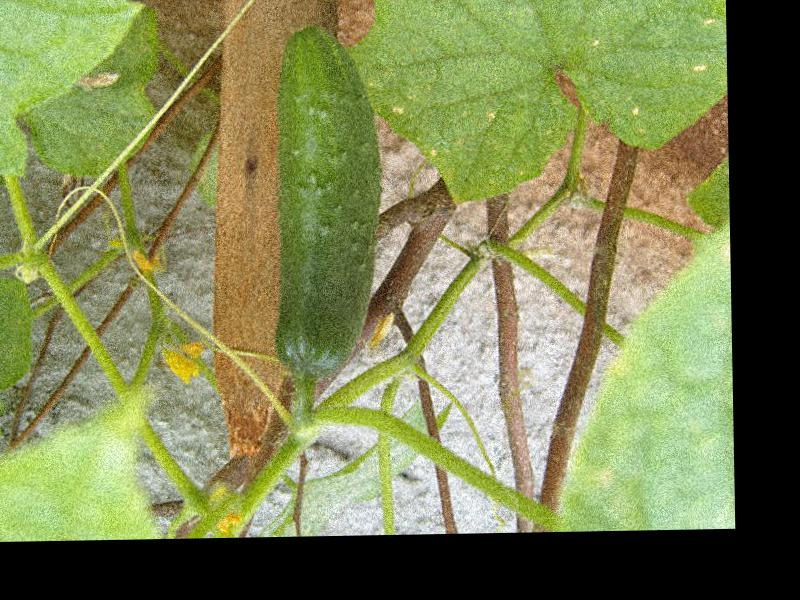Cucumber: (268, 24, 384, 381)
